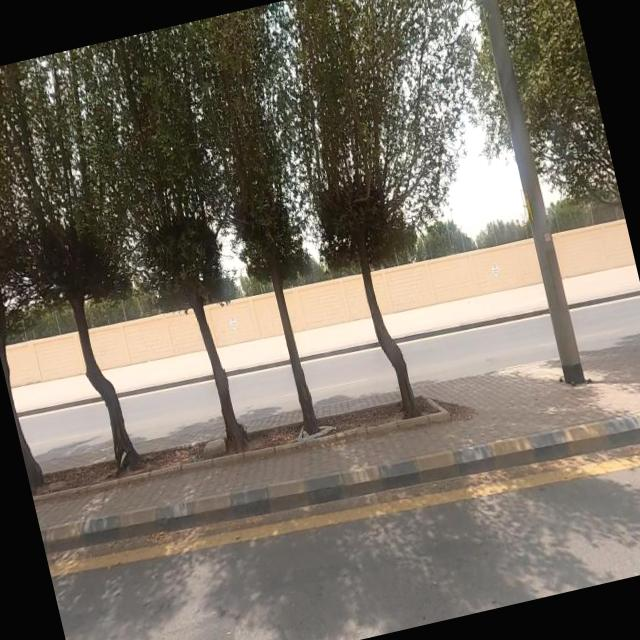debris: (264, 394, 362, 477)
